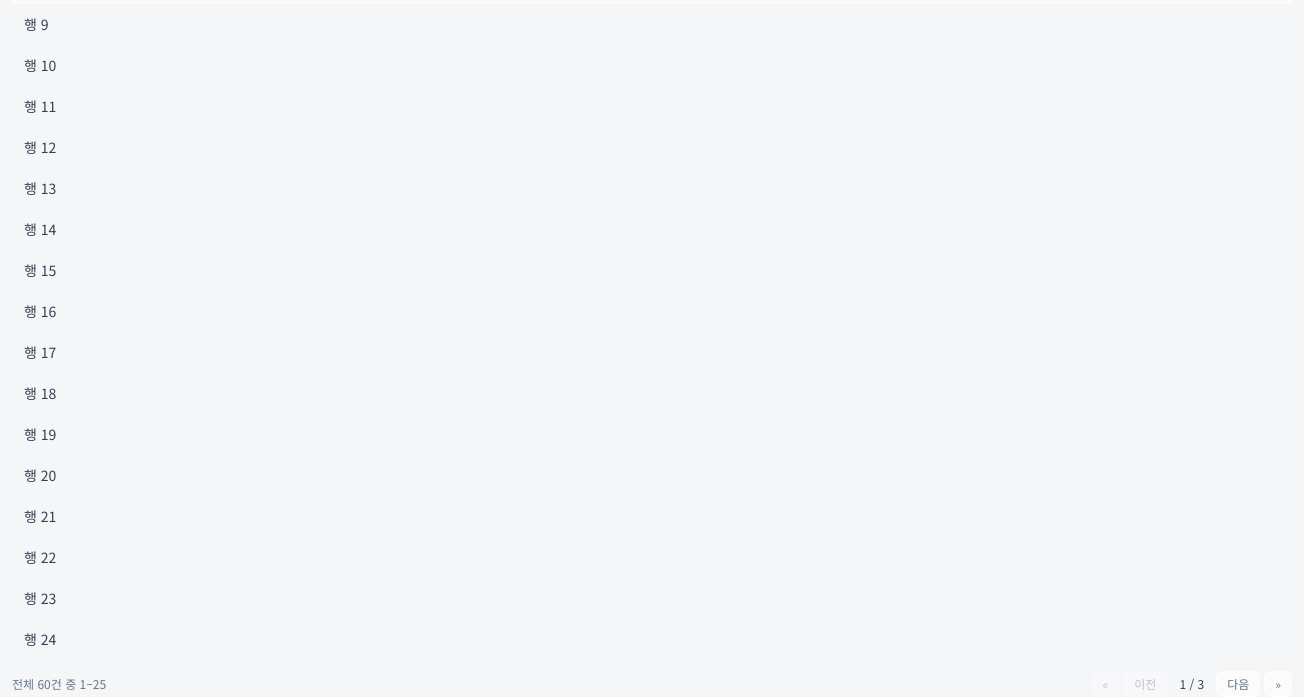
DataTable — 대량 데이터 페이지네이션 › jumps to the last page and disables the next control
(page scrolled)
Click the button named "마지막 페이지". click: click(1278, 684)
box: [1264,671,1292,696]
(page scrolled)
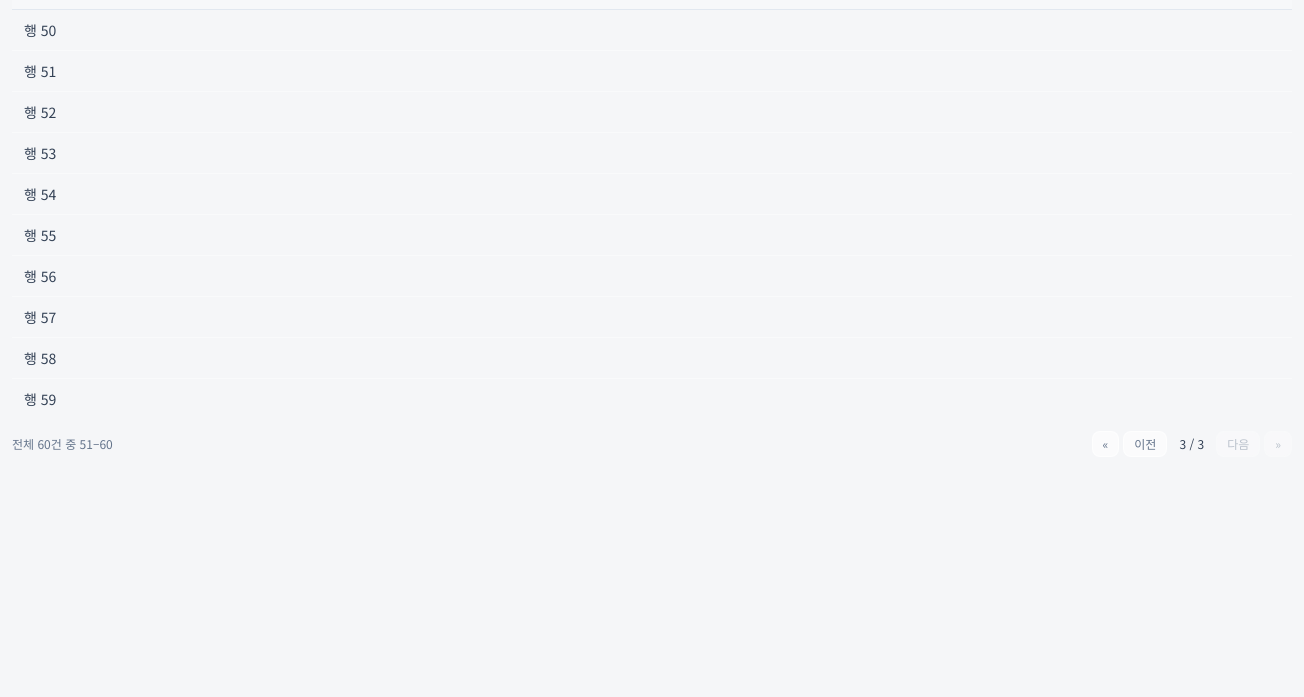
Check: the text "행 59" is shown, box [12,378,1292,419]
Check: the button with aria-label "다음 페이지" is disabled, box [1216,431,1260,457]
